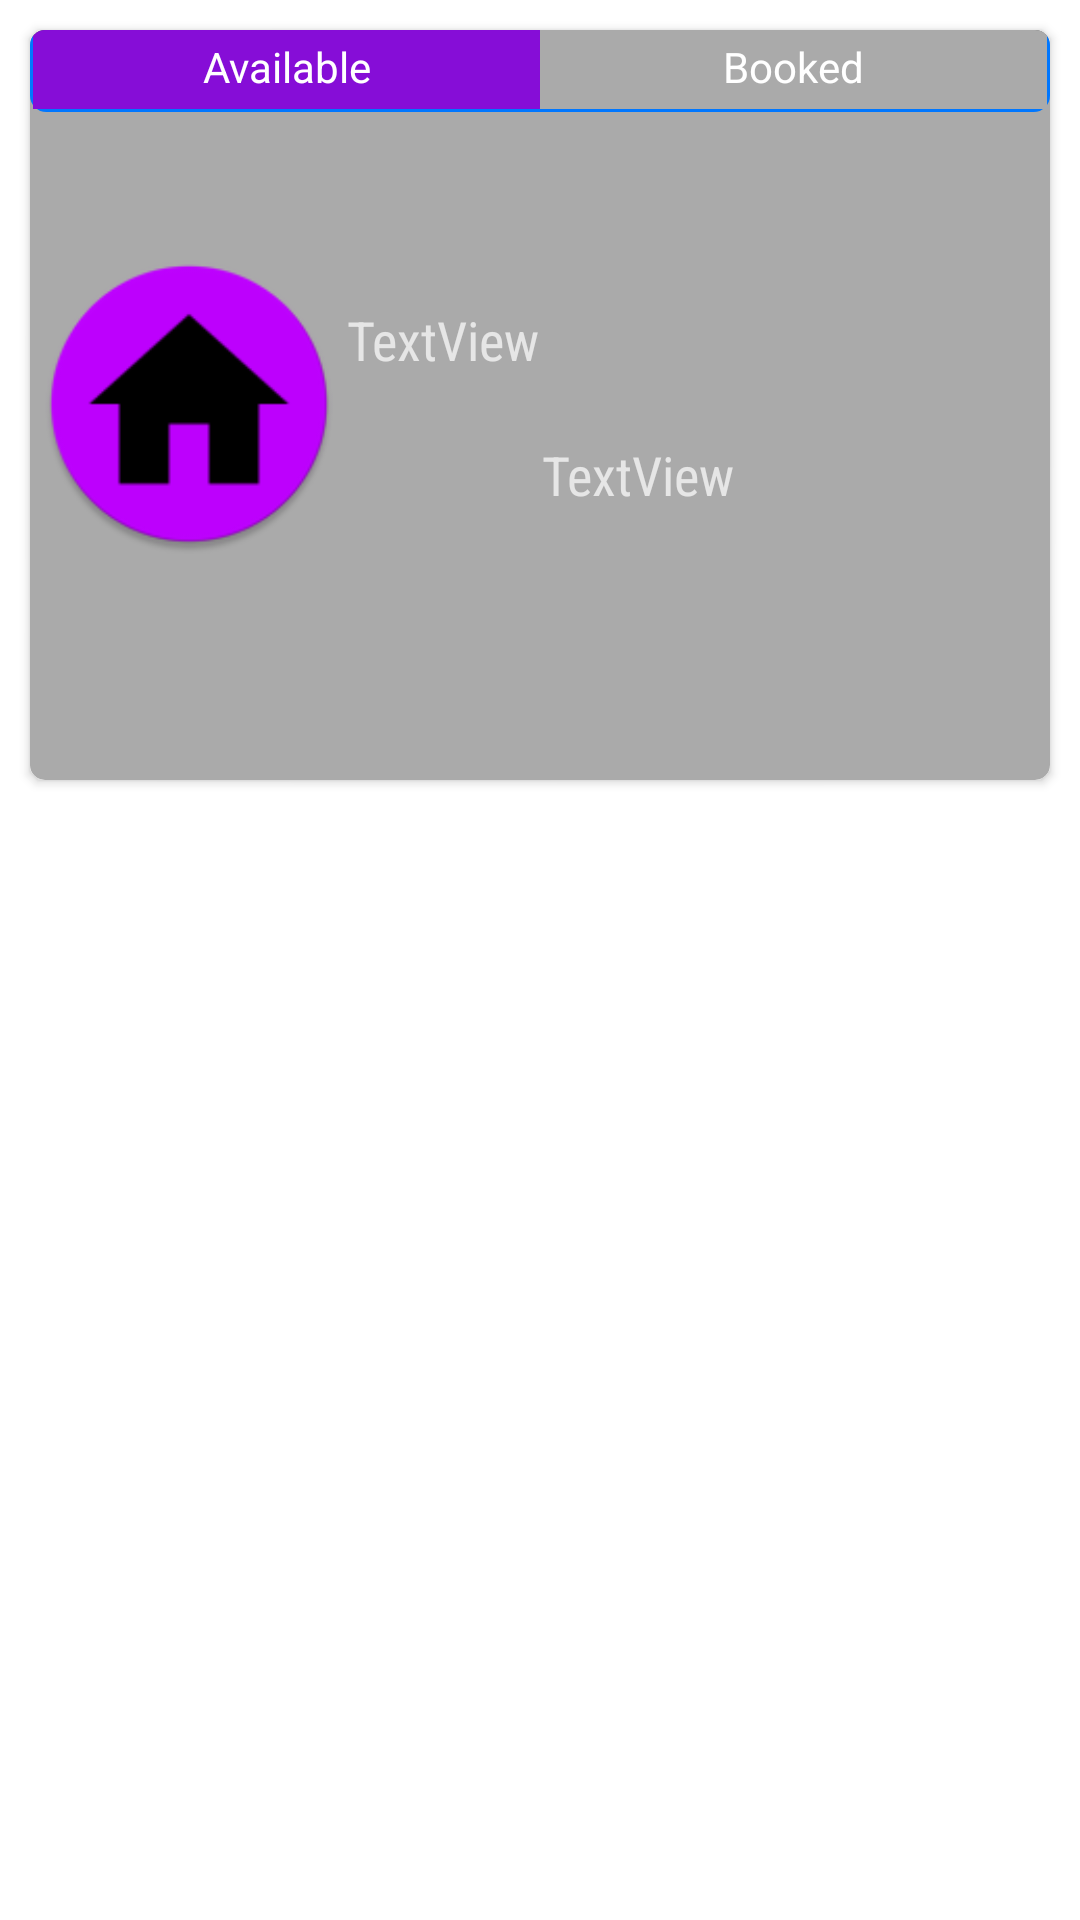

Where to tap for icons on this 1080px x 1920px app screen, as (x,y):
hometemp round: (189,406)
